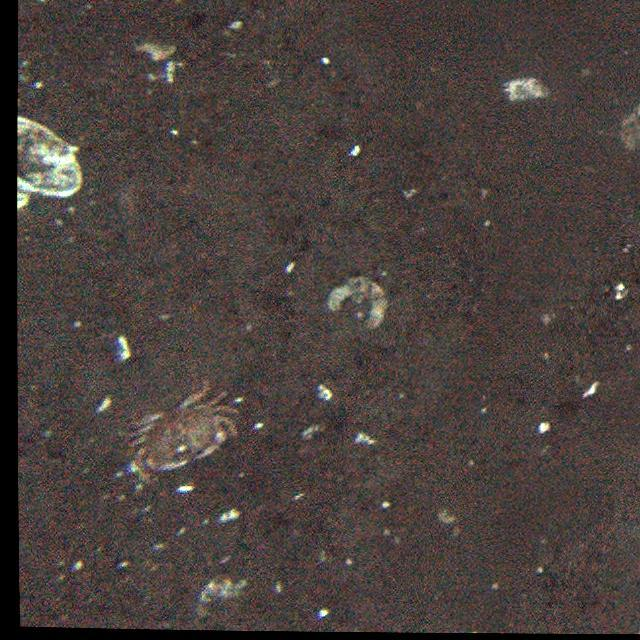crab: (120, 379, 240, 477)
